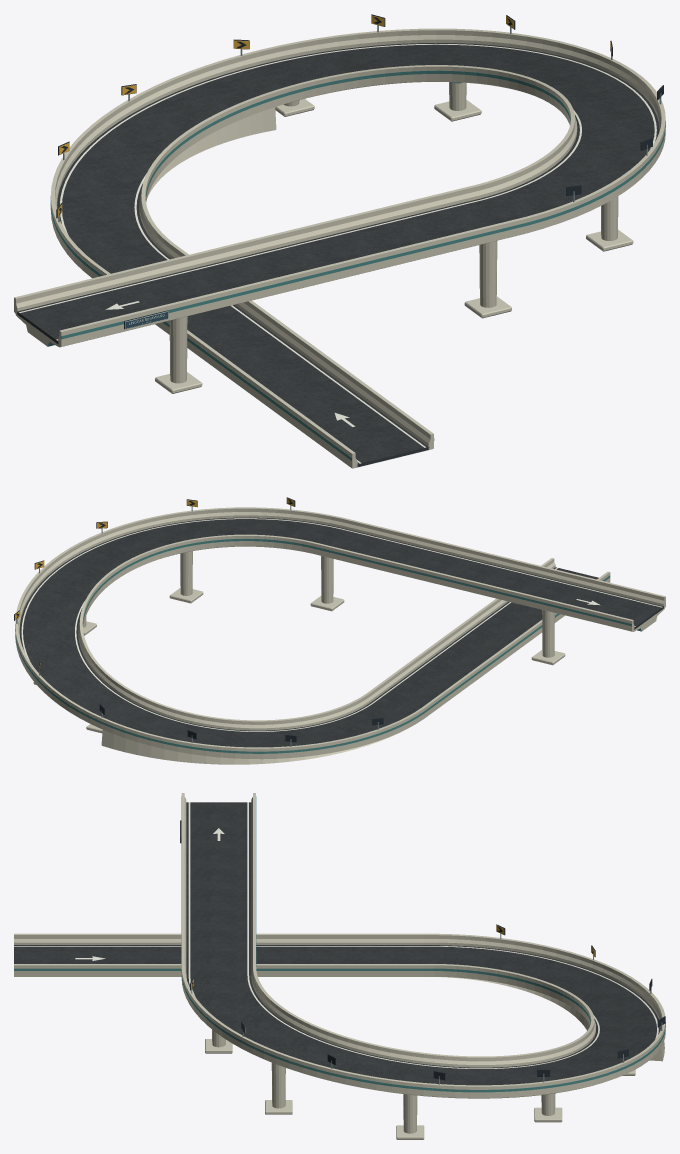
The picture shows the model from 3 angles, top to bottom: view 1: azimuth 30°, elevation 25°; view 2: azimuth 150°, elevation 25°; view 3: azimuth 270°, elevation 25°; orthographic projection. The views are drawn at different scales.
Parts seen in each view (by area): view 1: Loop wearing course, Continuous concrete parapets, Fascia glazed line, Round piers, Edge markings, Footings, Battered ramp abutment, Curve chevrons, Tapered loop box girder; view 2: Loop wearing course, Continuous concrete parapets, Fascia glazed line, Battered ramp abutment, Edge markings, Round piers, Footings, Curve chevrons; view 3: Loop wearing course, Continuous concrete parapets, Fascia glazed line, Edge markings, Round piers, Footings, Battered ramp abutment, Curve chevrons.
Boxes of the visible parts, x1,y1,x2,y2 form: Loop wearing course: (17, 43, 659, 466); Continuous concrete parapets: (14, 28, 665, 468); Fascia glazed line: (50, 70, 665, 460); Round piers: (169, 82, 618, 383); Edge markings: (19, 43, 656, 463); Footings: (155, 98, 633, 393); Battered ramp abutment: (147, 107, 432, 468); Curve chevrons: (56, 14, 663, 218); Tapered loop box girder: (15, 81, 526, 347); Loop wearing course: (19, 517, 663, 747); Continuous concrete parapets: (15, 507, 665, 759); Fascia glazed line: (15, 538, 631, 753); Battered ramp abutment: (101, 728, 408, 764); Edge markings: (21, 518, 662, 731); Round piers: (83, 551, 554, 657); Footings: (33, 588, 565, 733); Curve chevrons: (14, 497, 383, 742); Loop wearing course: (14, 802, 660, 1085); Continuous concrete parapets: (14, 793, 665, 1098); Fascia glazed line: (14, 796, 665, 1092); Edge markings: (14, 802, 658, 1068); Round piers: (212, 1029, 555, 1133); Footings: (205, 1039, 635, 1139); Battered ramp abutment: (441, 977, 664, 1061); Curve chevrons: (190, 924, 665, 1080).
Bounding box in the file's own units: 50.94 × 8.05 × 50.92.
Materials: 10 (1 with a texture image).
